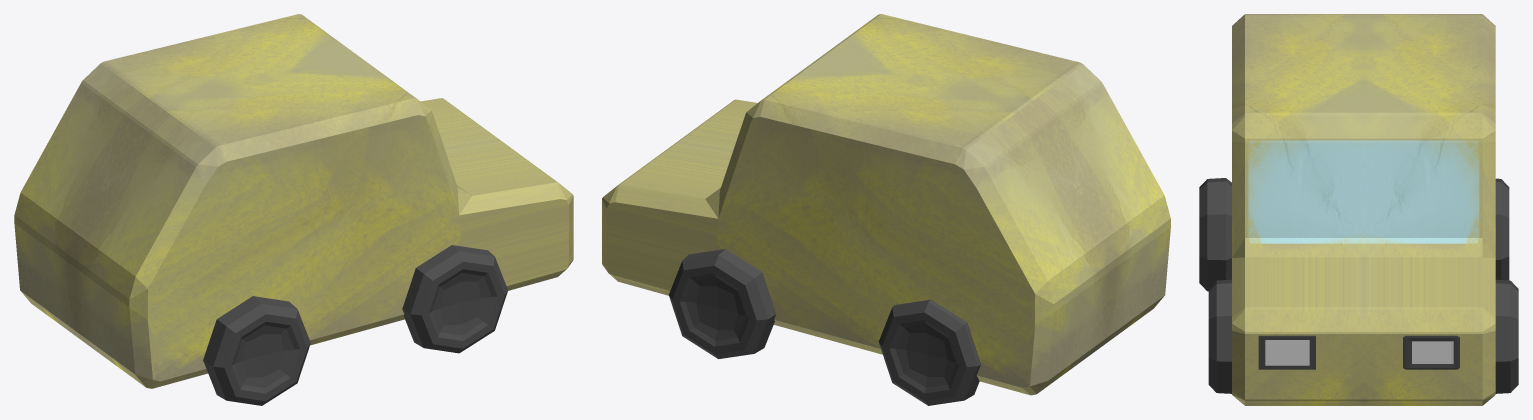
File: fiat2.fbx
3 views of the same model, side by side, from view 1: azimuth 30°, elevation 25°; view 2: azimuth 150°, elevation 25°; view 3: azimuth 270°, elevation 25° (orthographic). The views are drawn at different scales.
Parts seen in each view (by area): view 1: Cube; view 2: Cube; view 3: Cube.
Boxes of the visible parts, x1,y1,x2,y2 form: Cube: (14, 14, 573, 405); Cube: (602, 14, 1170, 405); Cube: (1199, 14, 1518, 405).
Size of the model in its own units: 402 by 219 by 242.
Materials: 6 (1 with a texture image).
